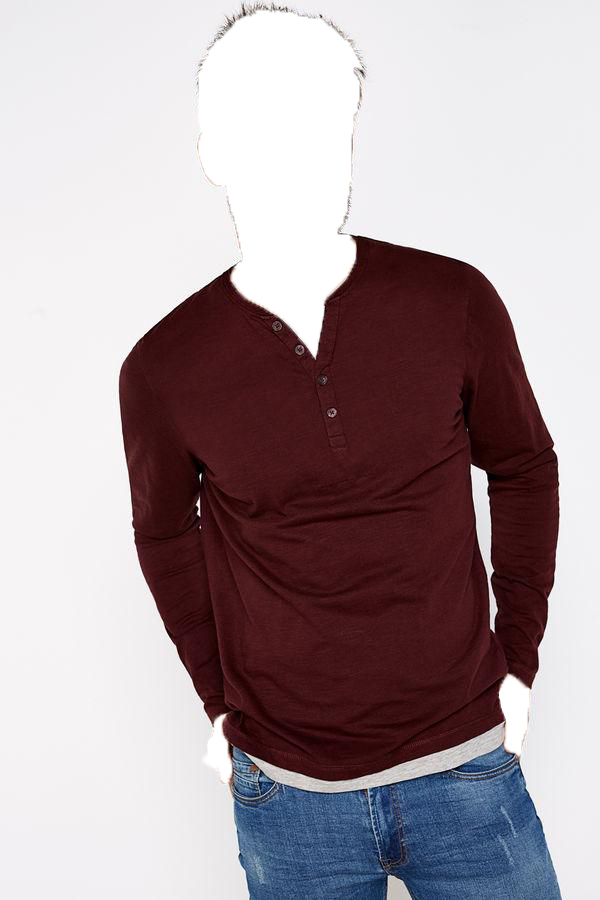teeshirt: (111, 229, 583, 770)
